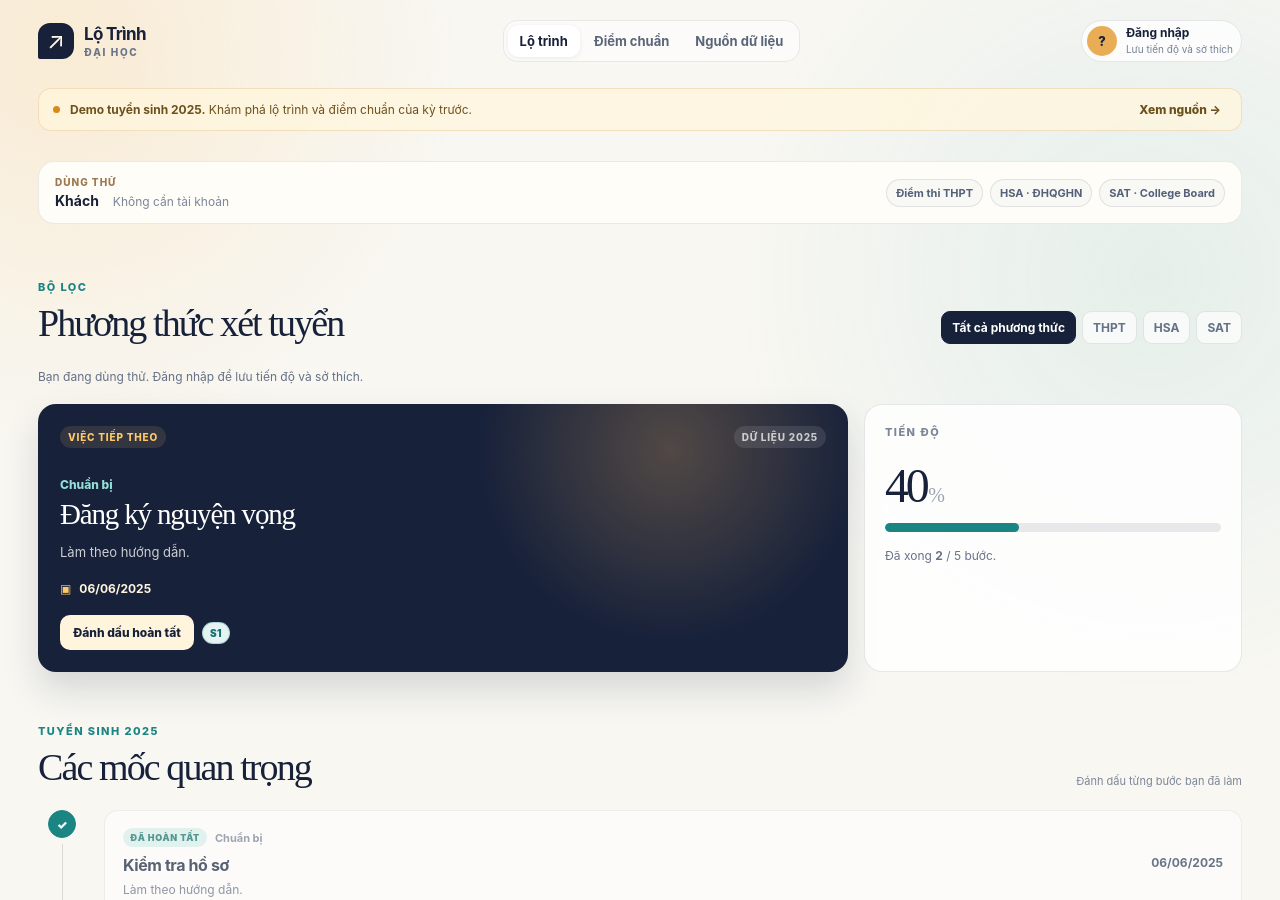
Test: admissions demo flows › uses the same filtered steps for the completion count and percentage
This screenshot has width=1280, height=900.
Expected: the element showing "40%" is shown, [885,459,942,512]
Click the button "THPT". click: (1109, 328)
box: [1082,311,1137,344]
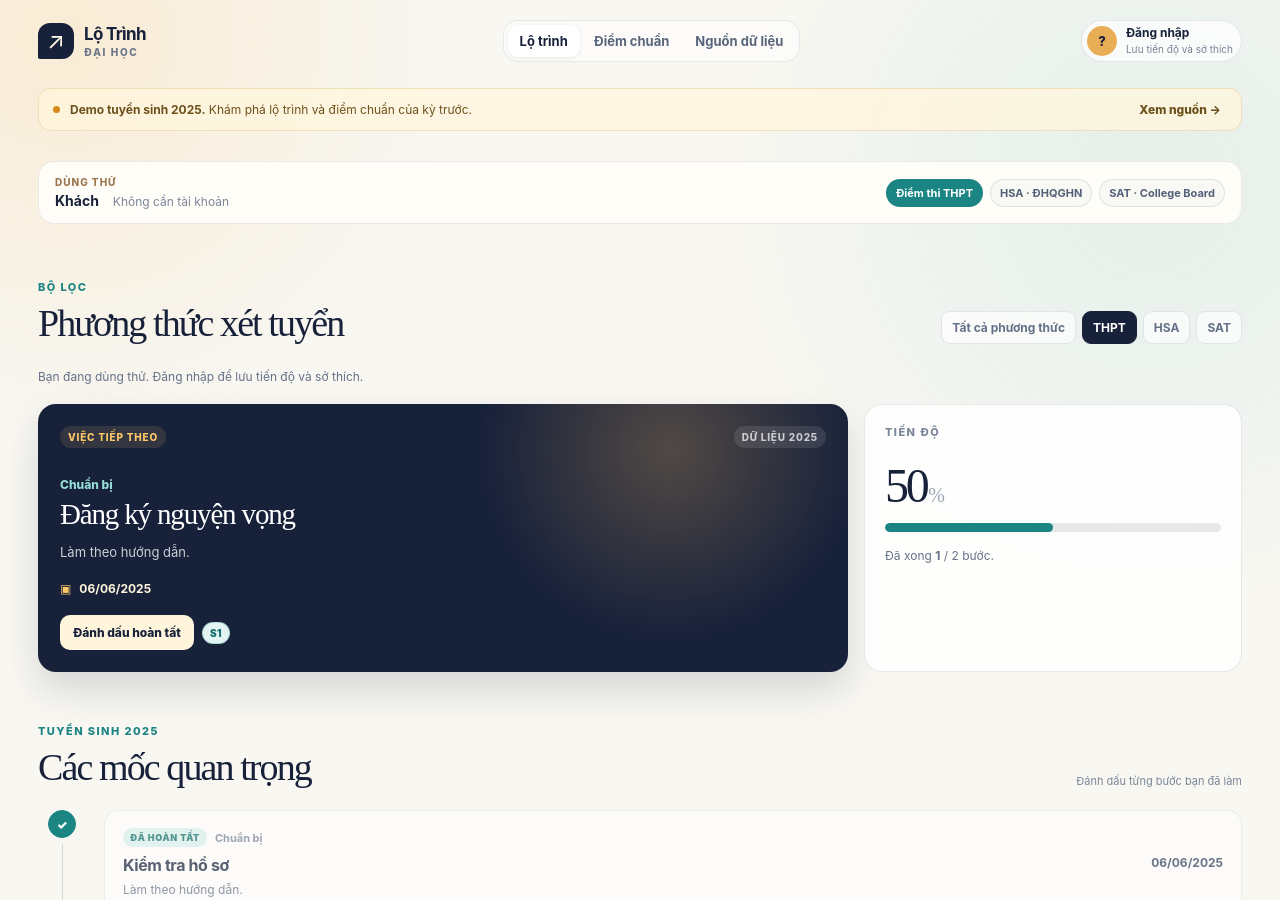
Expected: the element showing "50%" is shown, [885,459,942,512]
